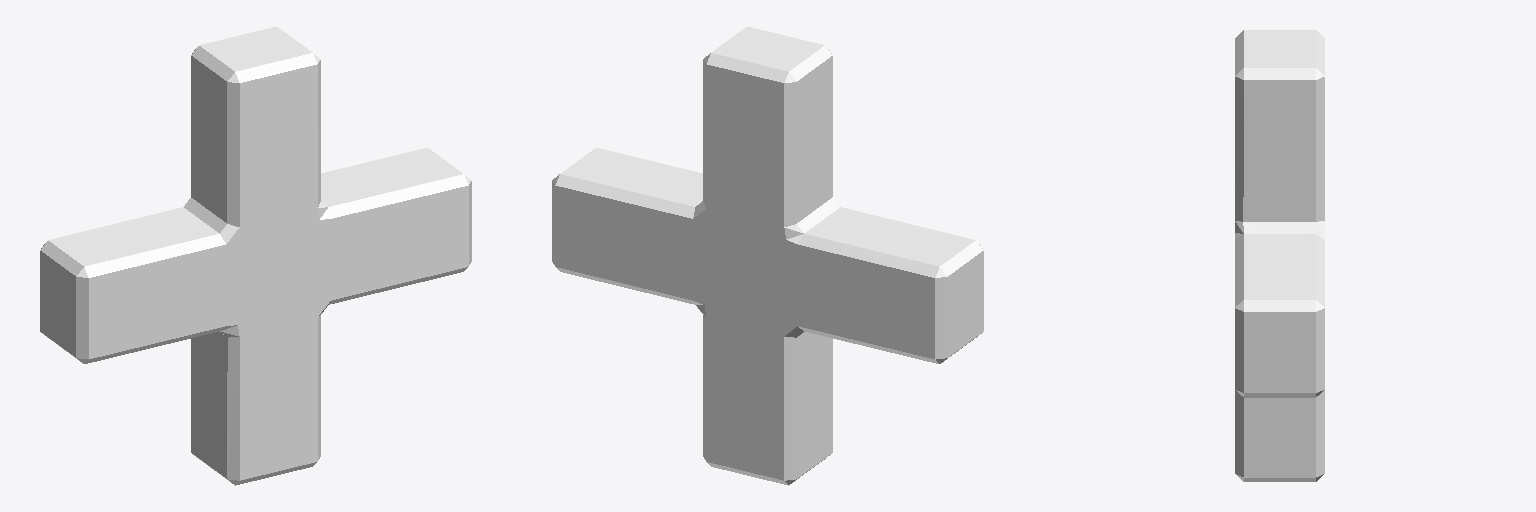
The picture shows the model from 3 angles: view 1: azimuth 30°, elevation 25°; view 2: azimuth 150°, elevation 25°; view 3: azimuth 270°, elevation 25°; orthographic projection.
Parts seen in each view (by area): view 1: Item_HPup2_Mesh; view 2: Item_HPup2_Mesh; view 3: Item_HPup2_Mesh.
Boxes of the visible parts, <box> form: Item_HPup2_Mesh: <box>40,26,471,485</box>; Item_HPup2_Mesh: <box>552,26,983,485</box>; Item_HPup2_Mesh: <box>1235,30,1324,481</box>.
Size of the model in its own units: 2.1 by 2.1 by 0.4155.
1 materials, 1 textured.